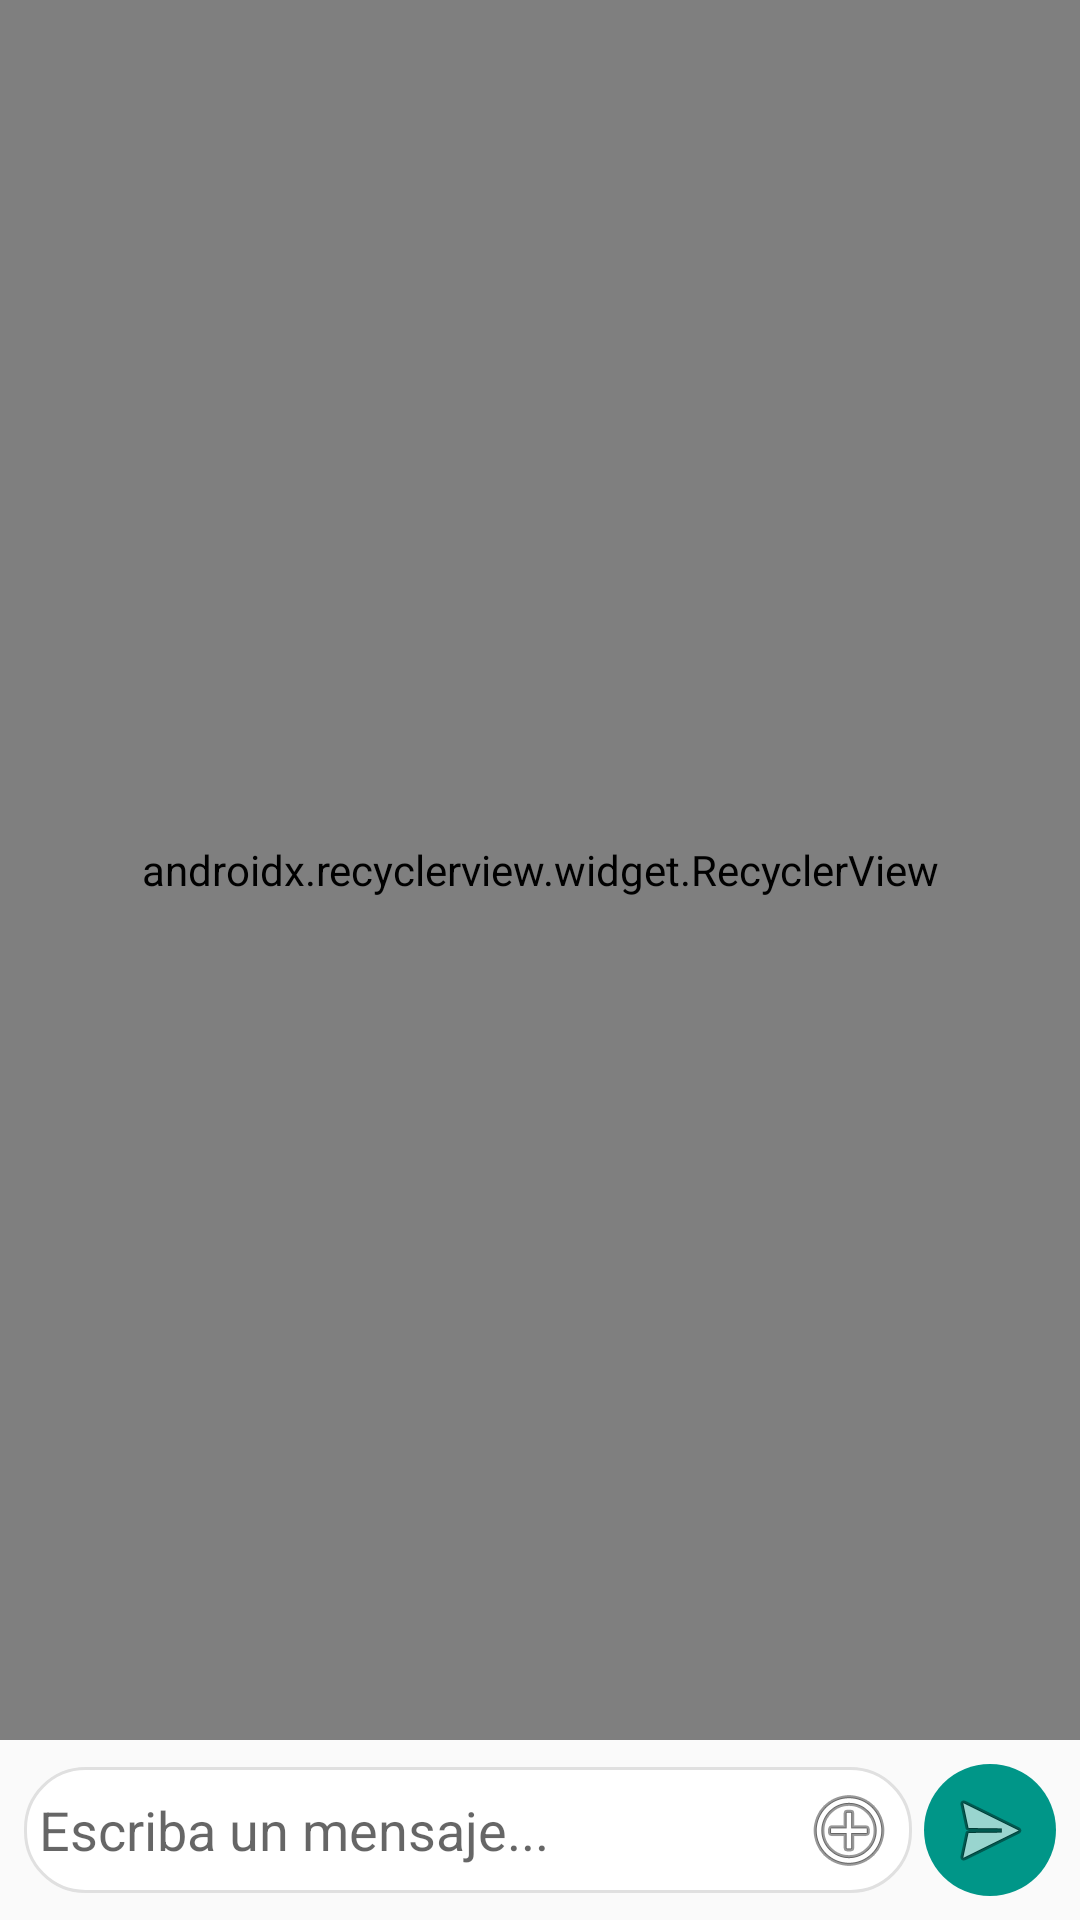

Named icons in this screenshot (1080 x 1920) and their bounding boxes, box=[x1, y1, x2, y2]:
add: box=[813, 1795, 885, 1866]
